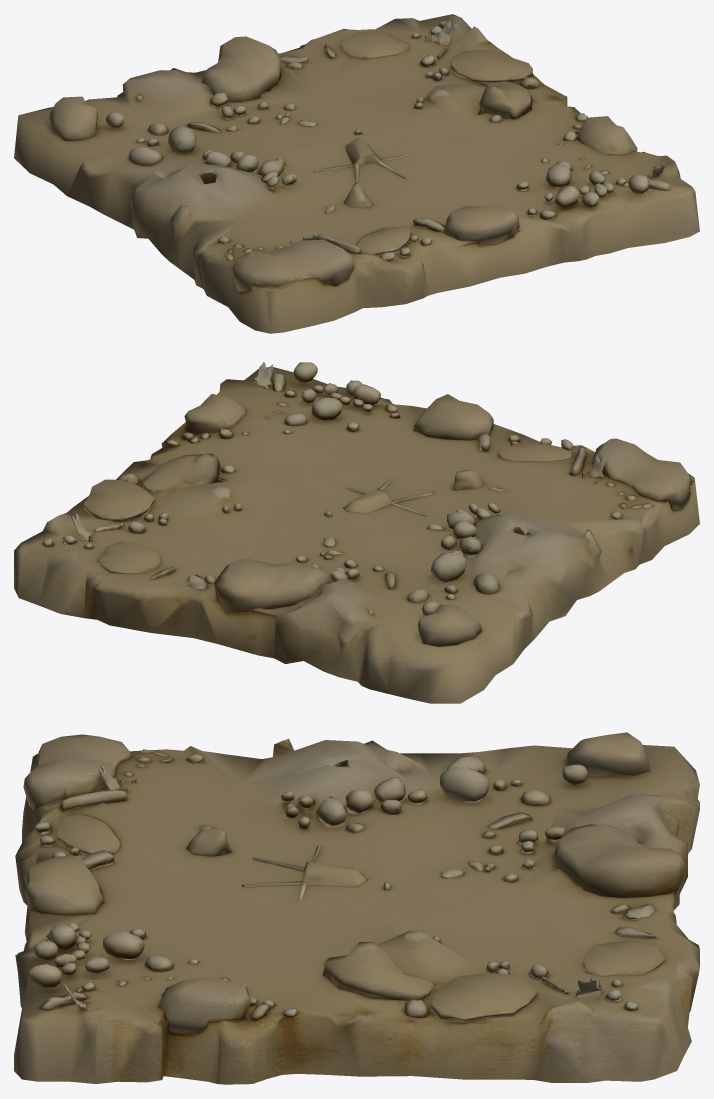
The model's file is cave_floor_sediment.glb.
3 renders of one model, top to bottom at view 1: azimuth 30°, elevation 25°; view 2: azimuth 150°, elevation 25°; view 3: azimuth 270°, elevation 25°, orthographic. The views are drawn at different scales.
Parts seen in each view (by area): view 1: tripo_node_9ebda37d-24d2-422f-b7e2-13565bd3ab05; view 2: tripo_node_9ebda37d-24d2-422f-b7e2-13565bd3ab05; view 3: tripo_node_9ebda37d-24d2-422f-b7e2-13565bd3ab05.
Boxes of the visible parts, x1=… form: tripo_node_9ebda37d-24d2-422f-b7e2-13565bd3ab05: x1=14, y1=14, x2=699, y2=333; tripo_node_9ebda37d-24d2-422f-b7e2-13565bd3ab05: x1=14, y1=362, x2=699, y2=703; tripo_node_9ebda37d-24d2-422f-b7e2-13565bd3ab05: x1=14, y1=732, x2=699, y2=1084.
Size of the model in its own units: 0.998 by 0.1426 by 0.9941.
1 material, 1 textured.
